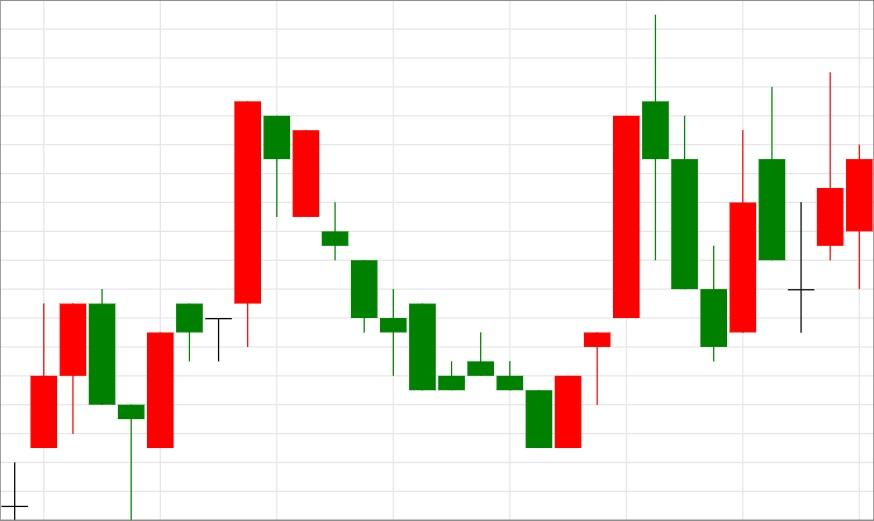bullish_engulfing_rise: (234, 101, 583, 449)
three_black_crows_fall: (525, 15, 728, 449)
